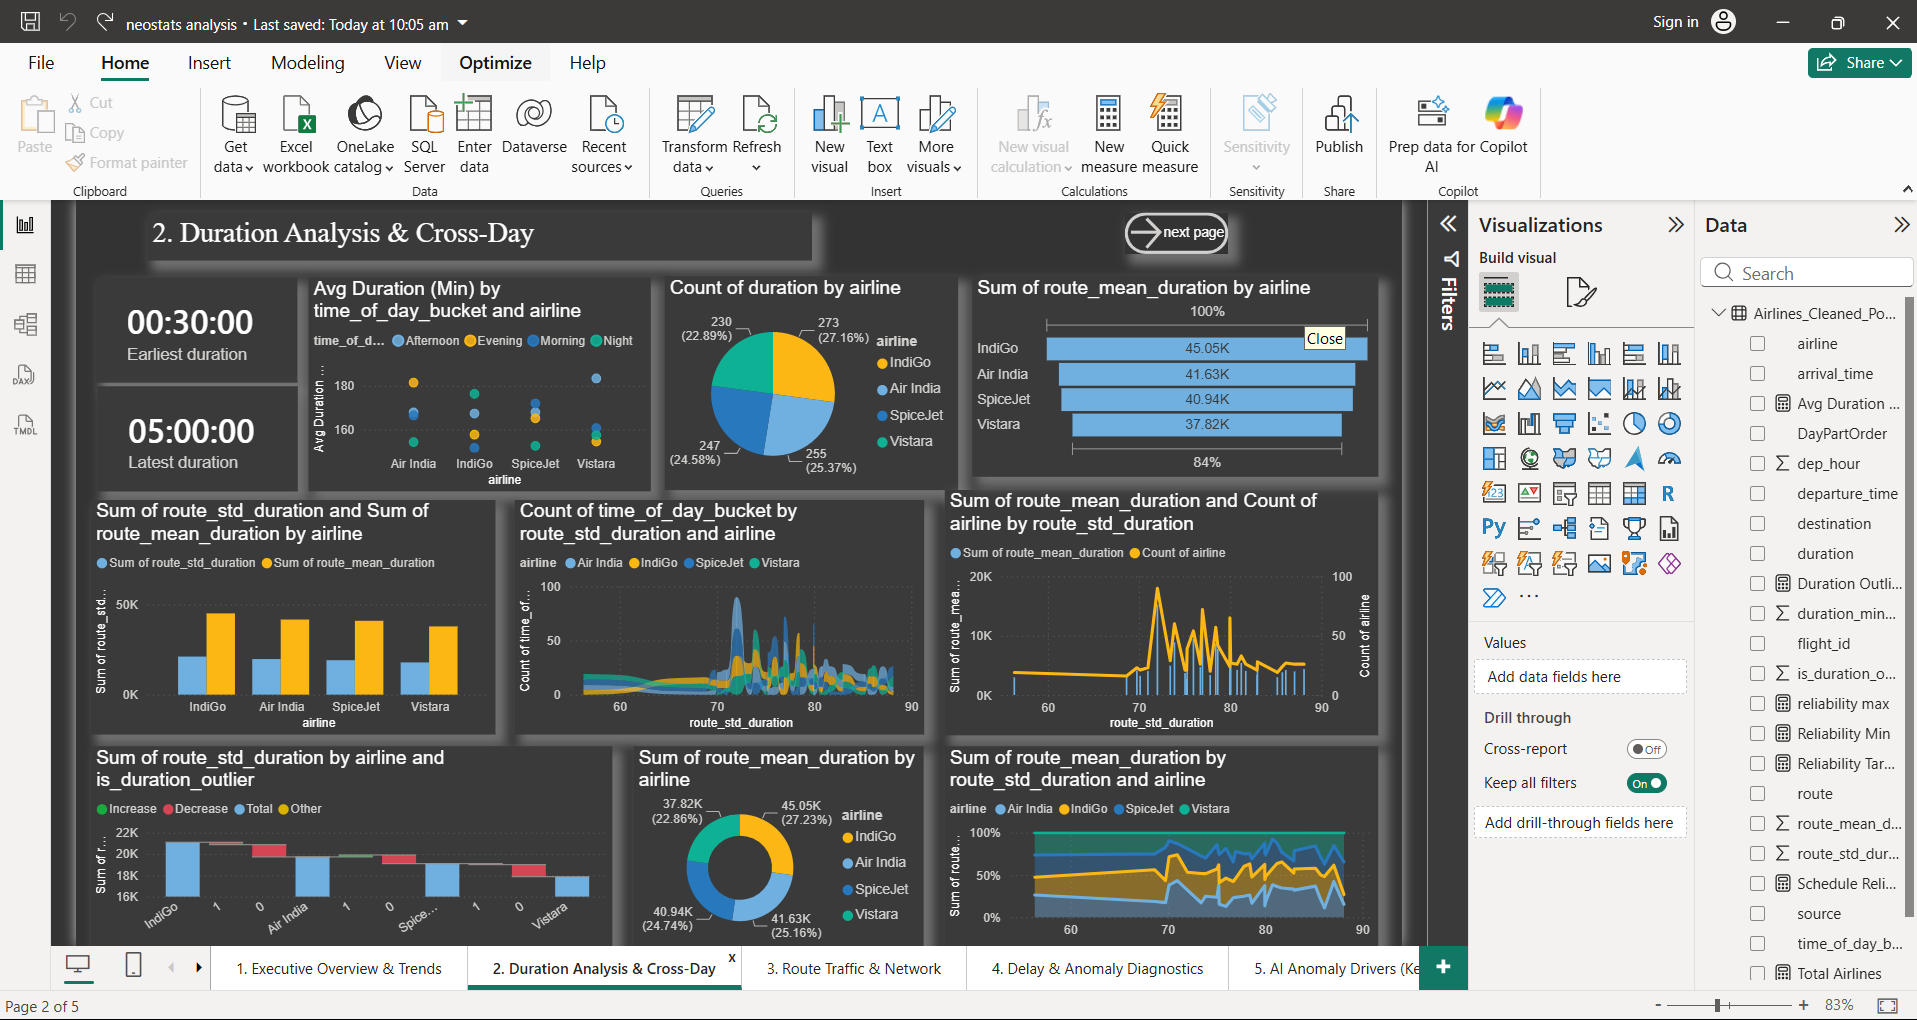

Layout of this report page (visuals, bound fields, positions):
{"tool":"powerbi","page":{"name":"2. Duration Analysis & Cross-Day","canvas":[1280,720],"ordinal":1},"visuals":[{"type":"textbox","box":[68.3,11.7,641.7,46.7],"z":0},{"type":"actionButton","box":[1011.7,11.7,100,40],"z":1000},{"type":"cardVisual","fields":{"Data":["Min(Airlines_Cleaned_PowerBI.duration)"]},"box":[19.4,75,194.4,101.4],"z":2000},{"type":"cardVisual","fields":{"Data":["Max(Airlines_Cleaned_PowerBI.duration)"]},"box":[20,180,193.3,101.7],"z":3000},{"type":"scatterChart","fields":{"X":["Airlines_Cleaned_PowerBI.airline"],"Y":["Airlines_Cleaned_PowerBI.Avg Duration (Min)"],"Series":["Airlines_Cleaned_PowerBI.time_of_day_bucket"]},"box":[225,75,330,206.7],"z":4000},{"type":"clusteredColumnChart","fields":{"Category":["Airlines_Cleaned_PowerBI.airline"],"Y":["Sum(Airlines_Cleaned_PowerBI.route_std_duration)","Sum(Airlines_Cleaned_PowerBI.route_mean_duration)"]},"box":[15,290,390,226.7],"z":5000},{"type":"pieChart","fields":{"Y":["CountNonNull(Airlines_Cleaned_PowerBI.duration)"],"Category":["Airlines_Cleaned_PowerBI.airline"]},"box":[568.3,73.3,283.3,206.7],"z":6000},{"type":"ribbonChart","fields":{"Category":["Airlines_Cleaned_PowerBI.route_std_duration"],"Series":["Airlines_Cleaned_PowerBI.airline"],"Y":["CountNonNull(Airlines_Cleaned_PowerBI.time_of_day_bucket)"]},"box":[423.3,290,395,226.7],"z":7000},{"type":"lineClusteredColumnComboChart","fields":{"Y":["Sum(Airlines_Cleaned_PowerBI.route_mean_duration)"],"Category":["Airlines_Cleaned_PowerBI.route_std_duration"],"Y2":["CountNonNull(Airlines_Cleaned_PowerBI.airline)"]},"box":[838.3,280,418.3,236.7],"z":8000},{"type":"funnel","fields":{"Category":["Airlines_Cleaned_PowerBI.airline"],"Y":["Sum(Airlines_Cleaned_PowerBI.route_mean_duration)"]},"box":[865,73.3,391.7,193.3],"z":9000},{"type":"waterfallChart","fields":{"Category":["Airlines_Cleaned_PowerBI.airline"],"Y":["Sum(Airlines_Cleaned_PowerBI.route_std_duration)"],"Breakdown":["Airlines_Cleaned_PowerBI.is_duration_outlier"]},"box":[15,526.7,503.3,193.3],"z":10000},{"type":"donutChart","fields":{"Y":["Sum(Airlines_Cleaned_PowerBI.route_mean_duration)"],"Category":["Airlines_Cleaned_PowerBI.airline"]},"box":[538.3,526.7,280,193.3],"z":11000},{"type":"hundredPercentStackedAreaChart","fields":{"Category":["Airlines_Cleaned_PowerBI.route_std_duration"],"Series":["Airlines_Cleaned_PowerBI.airline"],"Y":["Sum(Airlines_Cleaned_PowerBI.route_mean_duration)"]},"box":[838.3,526.7,418.3,193.3],"z":12000}]}

Visuals, with their boxes on the page's 1280x720 design canvas (x1, y1, x2, y2). These are canvas units, not pixel positions in the 1917x1020 screenshot, which may show the page scaled, cropped or inside an application window:
textbox: crop(68, 12, 710, 58)
actionButton: crop(1012, 12, 1112, 52)
cardVisual - Min(Airlines_Cleaned_PowerBI.duration): crop(19, 75, 214, 176)
cardVisual - Max(Airlines_Cleaned_PowerBI.duration): crop(20, 180, 213, 282)
scatterChart - Airlines_Cleaned_PowerBI.airline x Airlines_Cleaned_PowerBI.Avg Duration (Min): crop(225, 75, 555, 282)
clusteredColumnChart - Airlines_Cleaned_PowerBI.airline x Sum(Airlines_Cleaned_PowerBI.route_std_duration): crop(15, 290, 405, 517)
pieChart - CountNonNull(Airlines_Cleaned_PowerBI.duration) x Airlines_Cleaned_PowerBI.airline: crop(568, 73, 852, 280)
ribbonChart - Airlines_Cleaned_PowerBI.route_std_duration x Airlines_Cleaned_PowerBI.airline: crop(423, 290, 818, 517)
lineClusteredColumnComboChart - Sum(Airlines_Cleaned_PowerBI.route_mean_duration) x Airlines_Cleaned_PowerBI.route_std_duration: crop(838, 280, 1257, 517)
funnel - Airlines_Cleaned_PowerBI.airline x Sum(Airlines_Cleaned_PowerBI.route_mean_duration): crop(865, 73, 1257, 267)
waterfallChart - Airlines_Cleaned_PowerBI.airline x Sum(Airlines_Cleaned_PowerBI.route_std_duration): crop(15, 527, 518, 720)
donutChart - Sum(Airlines_Cleaned_PowerBI.route_mean_duration) x Airlines_Cleaned_PowerBI.airline: crop(538, 527, 818, 720)
hundredPercentStackedAreaChart - Airlines_Cleaned_PowerBI.route_std_duration x Airlines_Cleaned_PowerBI.airline: crop(838, 527, 1257, 720)
